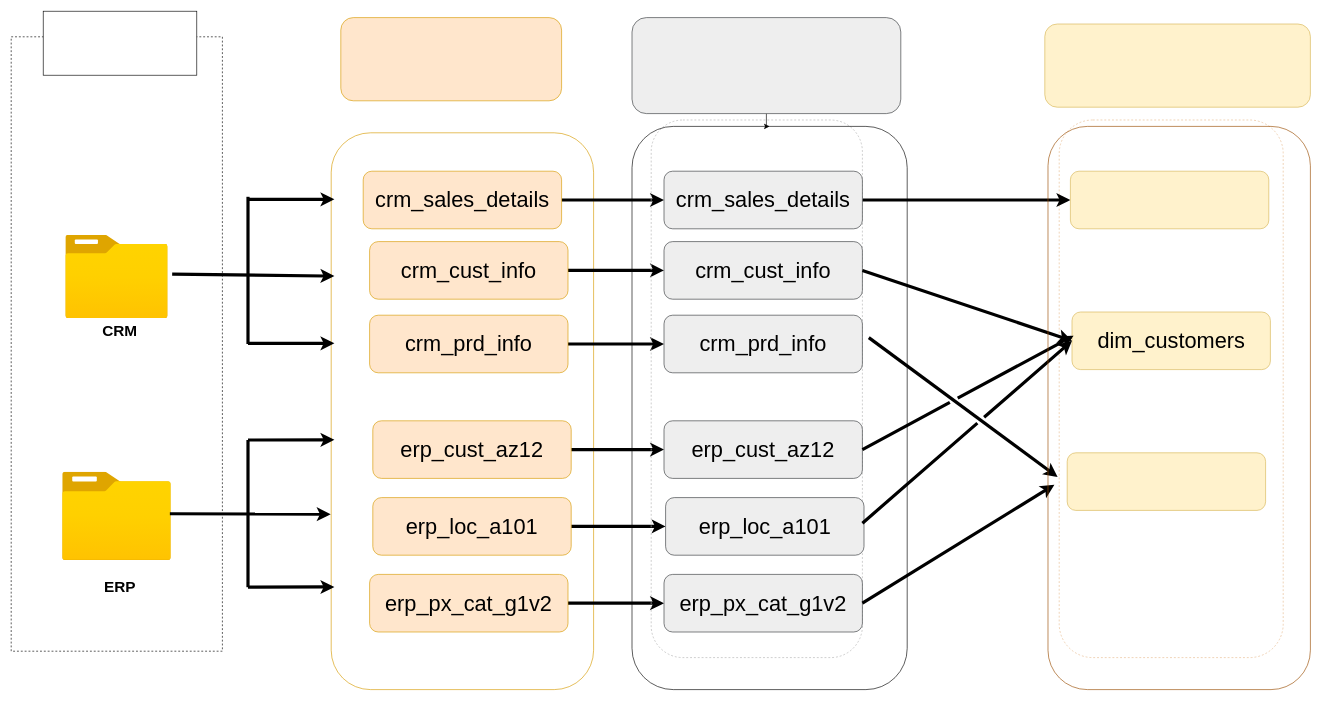
The diagram is 1322 pixels wide and 701 high, and some of its shapes have lost their labels. Here are the shapes that lost their labels. From the top down, the centre of each, then its label:
[120,43]: Sources
[451,59]: Bronze Layer
[766,65]: Silver Layer
[1177,65]: Gold Layer
[1169,200]: fact_sales
[1166,481]: dim_product
